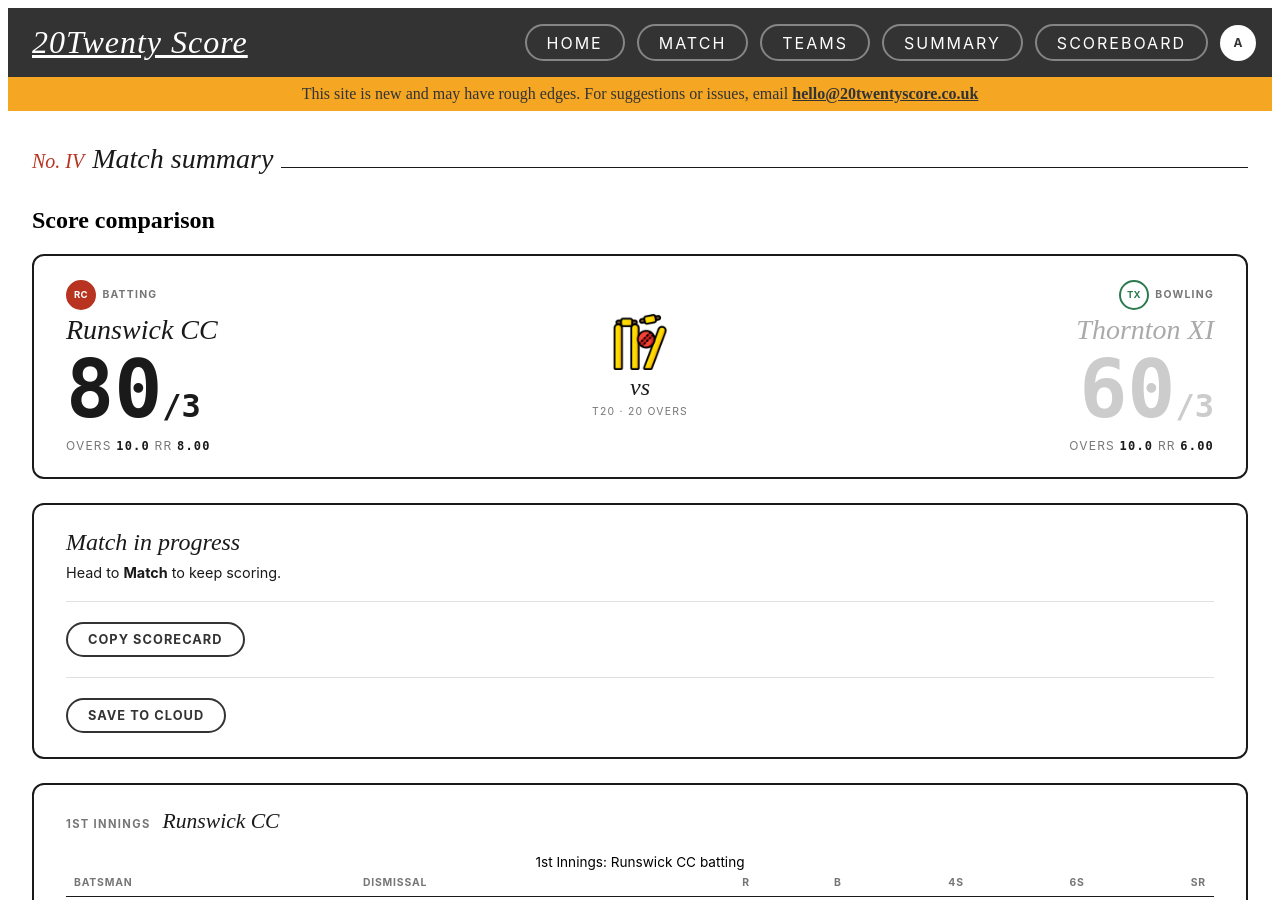
Test case: SummaryPage › saveToCloud › shows a generic error message on a non-OK, non-402 response
Click the button "Save to cloud".
click(146, 715)  # box 66,698 -> 226,733
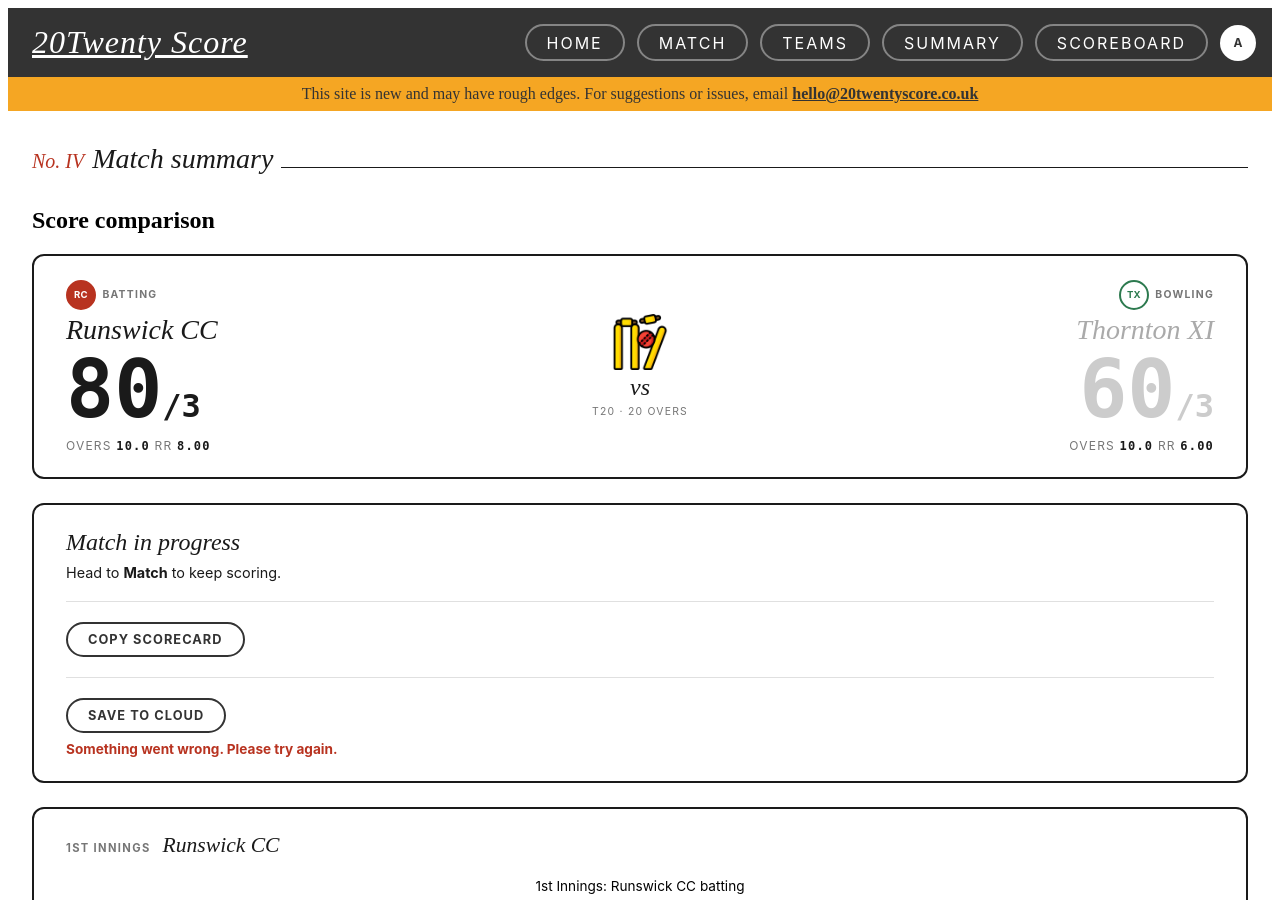
Check: the message shows "Something went wrong", box 66,741 -> 338,757
